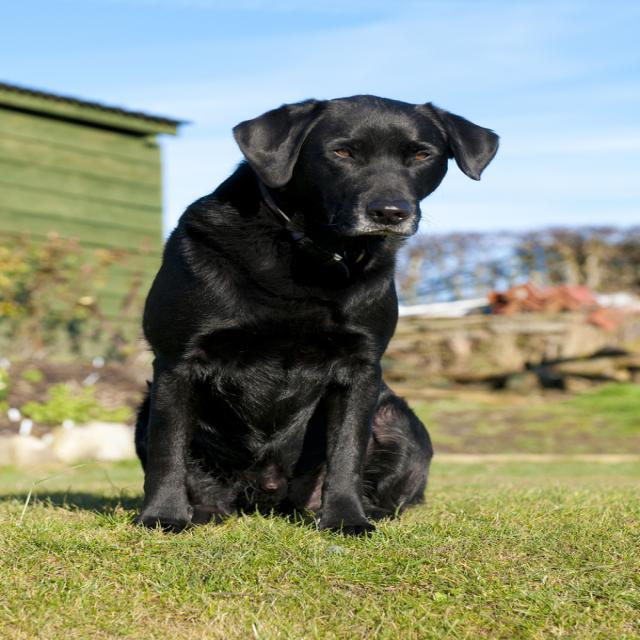Dog: (131, 95, 501, 537)
